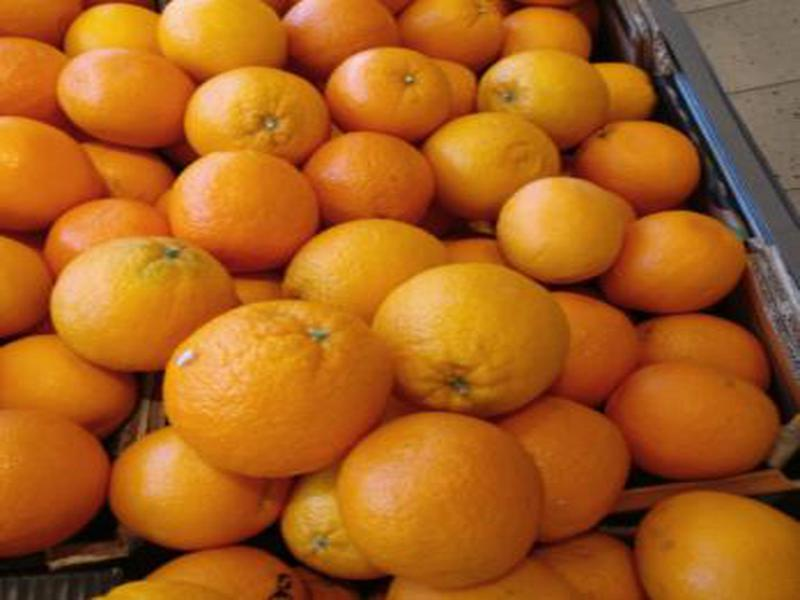orange: (160, 296, 395, 488), (333, 410, 542, 592), (371, 257, 571, 422), (39, 231, 257, 378), (484, 379, 635, 563), (611, 349, 785, 483), (270, 459, 428, 593), (105, 433, 278, 553), (279, 204, 459, 317), (166, 141, 330, 265), (417, 106, 579, 230), (1, 402, 112, 579), (182, 52, 336, 179), (634, 484, 800, 600), (49, 36, 203, 159), (39, 191, 195, 307), (497, 173, 636, 295), (1, 113, 128, 242), (605, 203, 747, 316), (318, 38, 467, 145), (1, 327, 141, 435), (300, 123, 439, 228), (470, 45, 616, 140), (574, 115, 712, 208), (163, 1, 303, 88), (281, 1, 411, 73), (1, 33, 96, 130), (64, 1, 180, 79), (401, 1, 501, 78), (498, 7, 600, 72)
